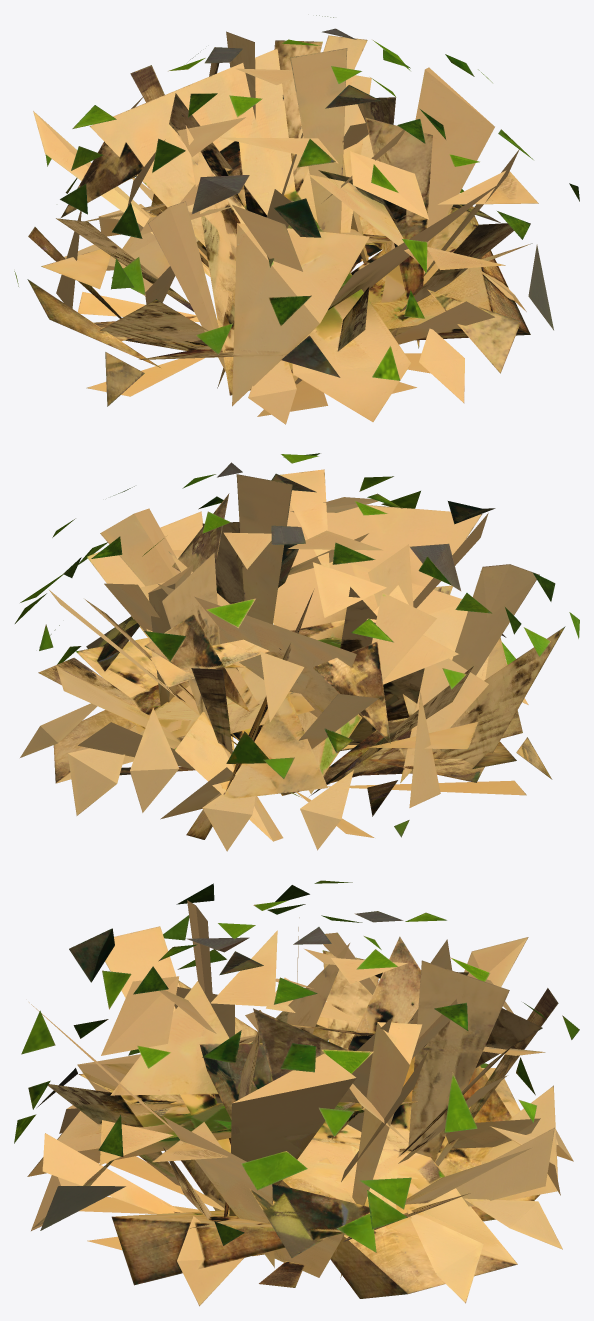
The model's file is herb.glb.
The picture shows the model from 3 angles, top to bottom: view 1: azimuth 30°, elevation 25°; view 2: azimuth 150°, elevation 25°; view 3: azimuth 270°, elevation 25°; orthographic projection. The views are drawn at different scales.
Size of the model in its own units: 0.169 by 0.1 by 0.1571.
1 material, 1 textured.
